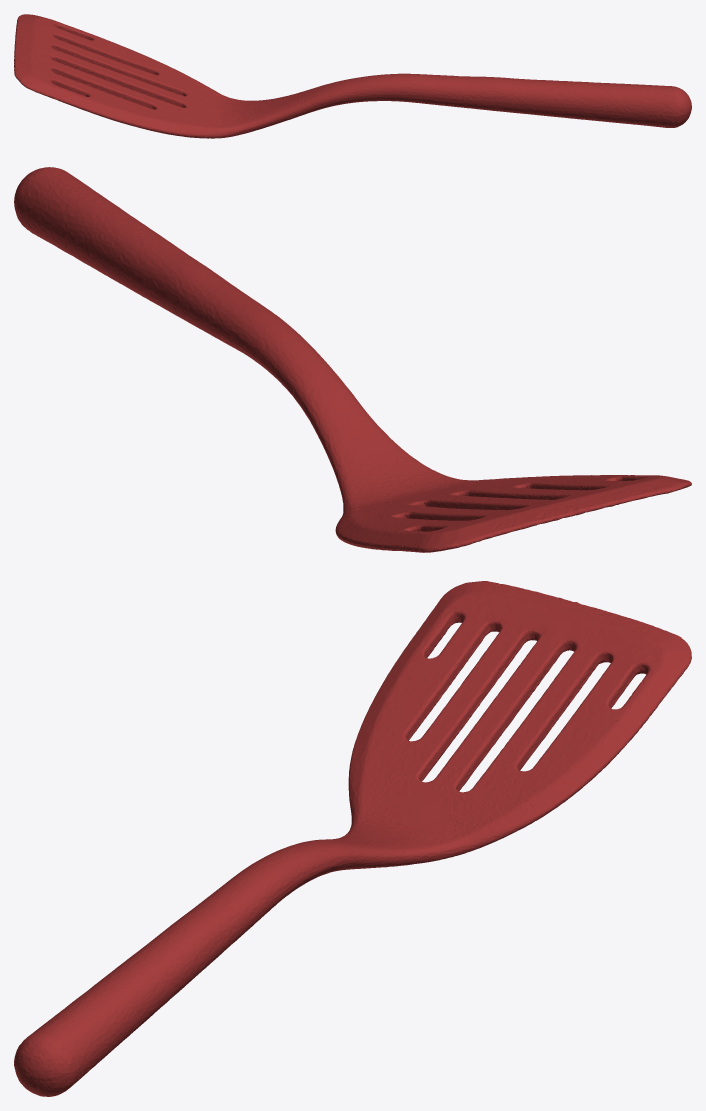
Rendered from ref_clip_03.glb.
3 renders of one model, top to bottom at view 1: azimuth 30°, elevation 25°; view 2: azimuth 150°, elevation 25°; view 3: azimuth 270°, elevation 25°, orthographic. The views are drawn at different scales.
Parts seen in each view (by area): view 1: mesh0_mesh.004; view 2: mesh0_mesh.004; view 3: mesh0_mesh.004.
Part boxes in pixels (box(x1,y1,x2,y2)): mesh0_mesh.004: box(14, 14, 691, 138); mesh0_mesh.004: box(14, 167, 691, 552); mesh0_mesh.004: box(14, 581, 691, 1096).
Size of the model in its own units: 0.3027 by 0.0416 by 0.2118.
